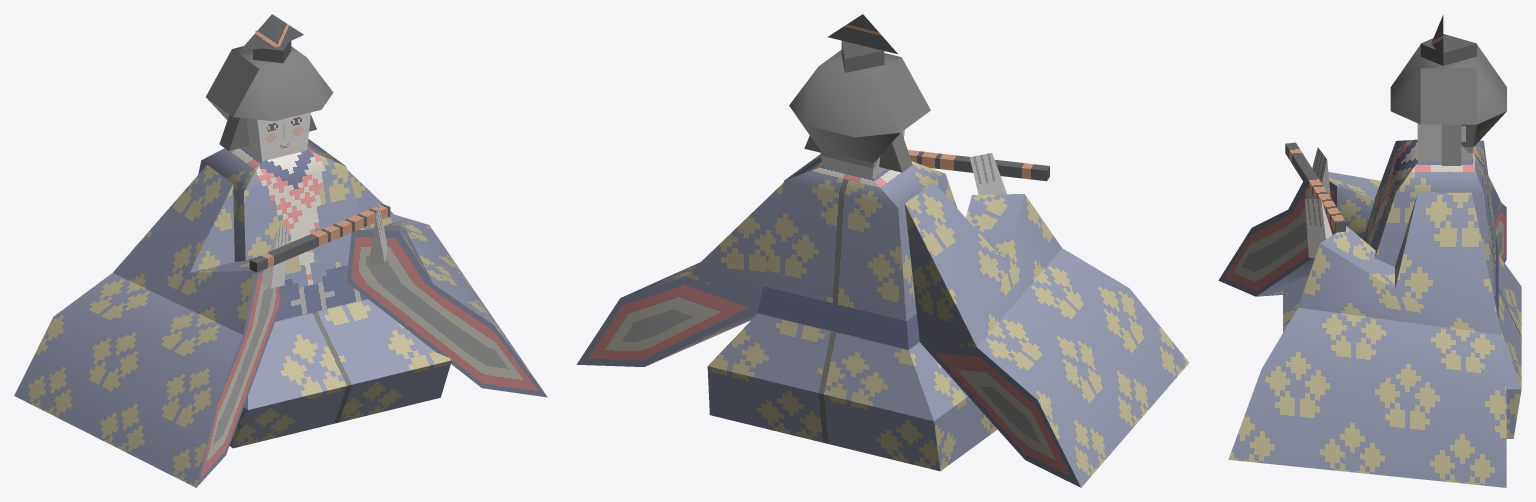
Rendered from 029c_Court_Musician.glb.
The picture shows the model from 3 angles, left to right: view 1: azimuth 30°, elevation 25°; view 2: azimuth 150°, elevation 25°; view 3: azimuth 270°, elevation 25°; orthographic projection. The views are drawn at different scales.
Parts seen in each view (by area): view 1: part_0; view 2: part_0; view 3: part_0.
Boxes of the visible parts, box(x1,y1,x2,y2) form: part_0: box(14, 14, 547, 487); part_0: box(576, 14, 1189, 487); part_0: box(1218, 15, 1521, 487).
Bounding box in the file's own units: 0.3511 × 0.2669 × 0.1968.
1 material, 1 textured.
